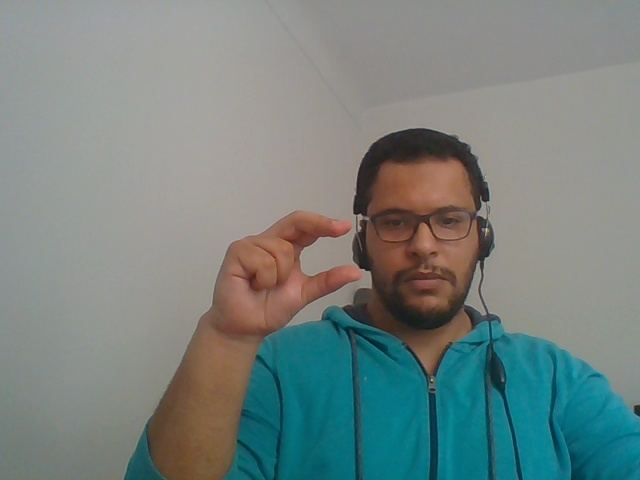no: (183, 199, 371, 367)
